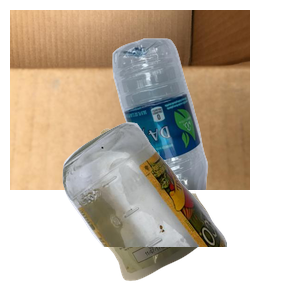cardboard: (10, 10, 250, 190)
glass: (60, 120, 300, 300)
plastic: (110, 36, 300, 216)
trash: (84, 126, 291, 300)
